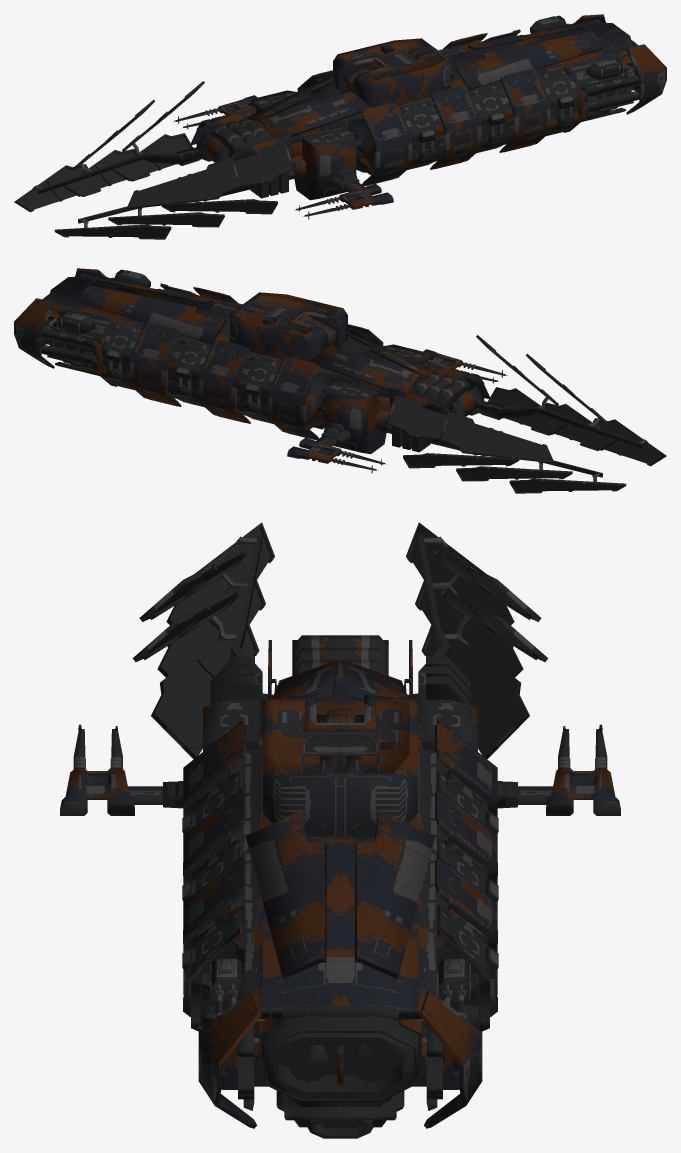
The model's file is talwar.glb.
The picture shows the model from 3 angles, top to bottom: view 1: azimuth 30°, elevation 25°; view 2: azimuth 150°, elevation 25°; view 3: azimuth 270°, elevation 25°; orthographic projection. The views are drawn at different scales.
Visible parts, largest first — view 1: Talwar; view 2: Talwar; view 3: Talwar.
Part boxes in pixels (x1,y1,x2,y2): Talwar: (14,14,666,239); Talwar: (14,268,666,493); Talwar: (60,522,620,1138).
Bounding box in the file's own units: 263 × 46.76 × 106.
1 material, 1 textured.
